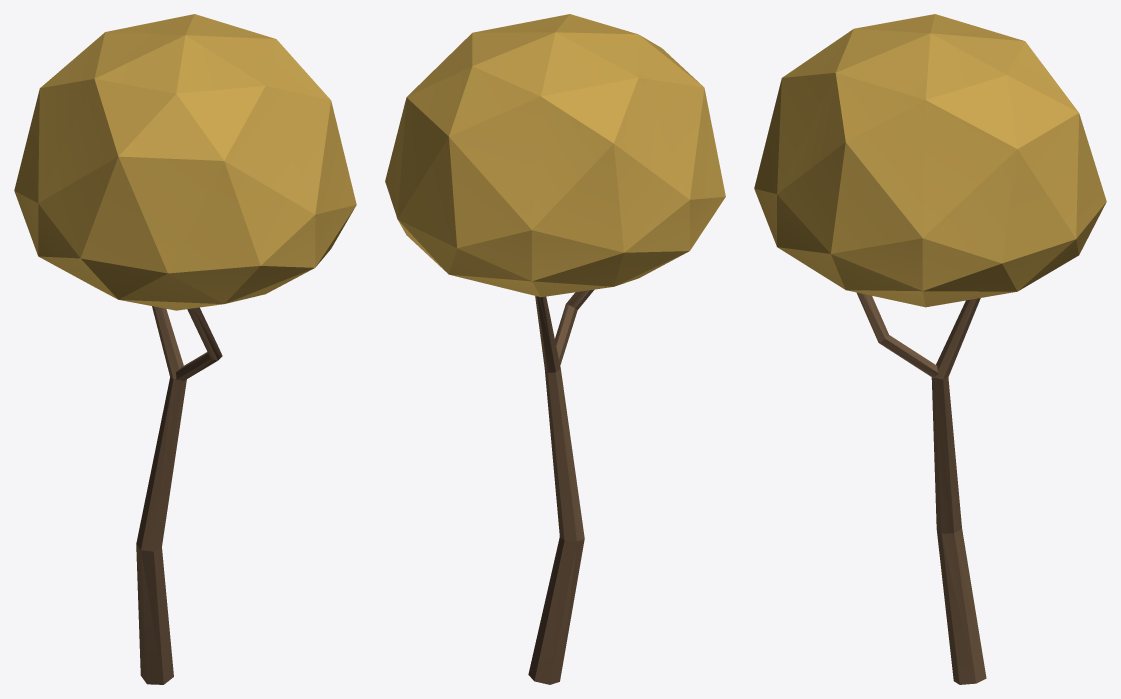
The model's file is tree_yellow_3.glb.
3 views of the same model, side by side, from view 1: azimuth 30°, elevation 25°; view 2: azimuth 150°, elevation 25°; view 3: azimuth 270°, elevation 25° (orthographic). The views are drawn at different scales.
Visible parts, largest first — view 1: Tree Yellow 3; view 2: Tree Yellow 3; view 3: Tree Yellow 3.
Part boxes in pixels (left/top/right/bottom): Tree Yellow 3: left=14, top=14, right=356, bottom=684; Tree Yellow 3: left=385, top=14, right=725, bottom=684; Tree Yellow 3: left=754, top=14, right=1106, bottom=684.
Bounding box in the file's own units: 0.1571 × 0.3434 × 0.1681.
